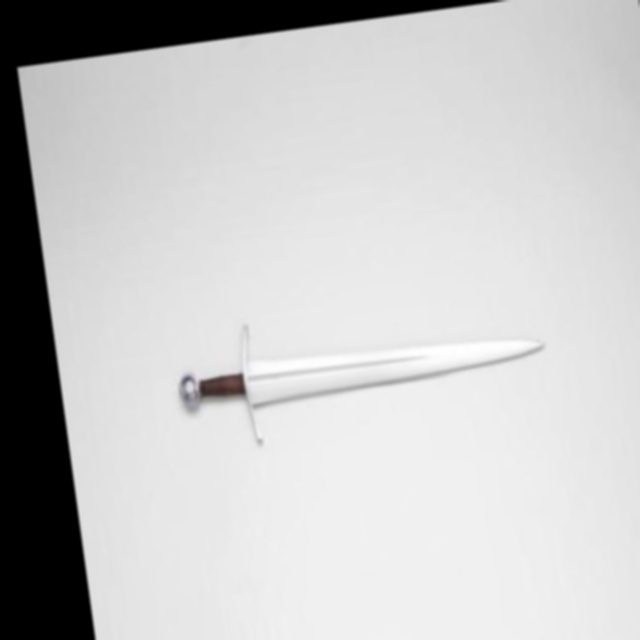Sharp-Object: (169, 327, 553, 426)
